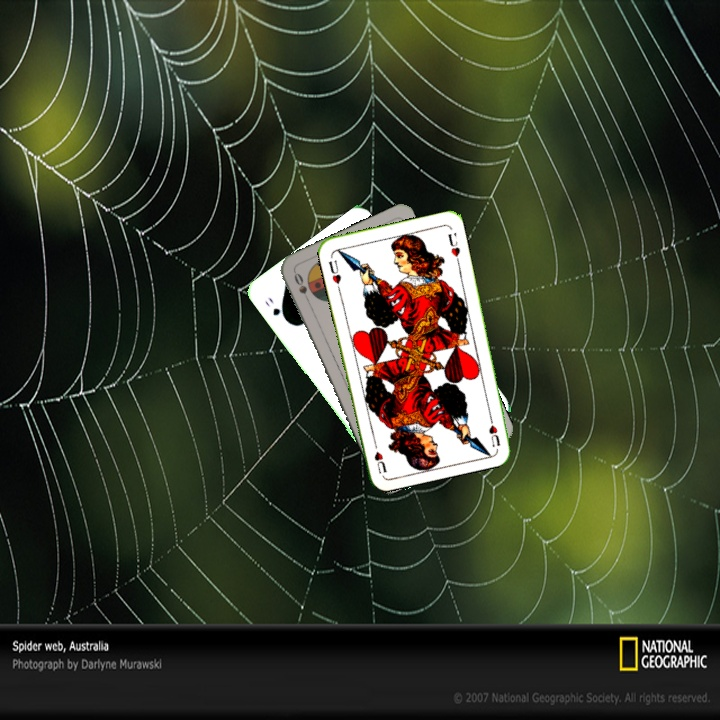GO: (261, 292, 290, 324)
HU: (324, 256, 344, 292), (485, 410, 503, 449)
SO: (290, 268, 313, 306)
